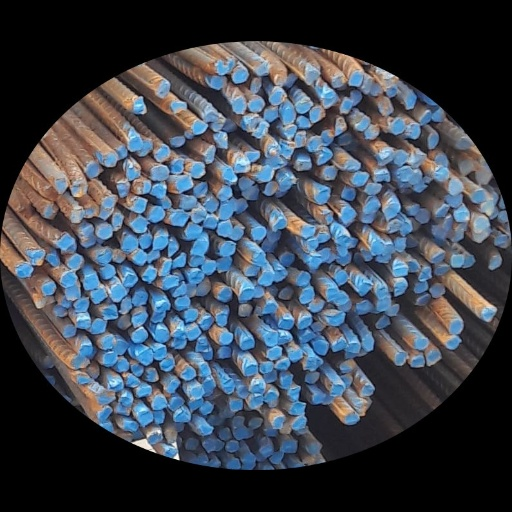dipstick: (276, 168, 297, 184), (280, 102, 295, 124), (85, 161, 103, 179), (109, 283, 126, 302), (191, 238, 208, 256), (216, 285, 233, 303), (70, 178, 86, 197), (409, 150, 425, 169), (304, 65, 319, 85), (90, 287, 107, 304), (101, 150, 117, 168), (154, 144, 170, 162), (130, 217, 148, 233), (137, 347, 153, 365), (132, 309, 148, 327), (132, 289, 148, 307), (202, 195, 218, 213), (315, 186, 331, 204), (454, 204, 470, 222), (28, 249, 46, 265), (217, 241, 236, 256), (426, 348, 441, 367), (14, 262, 33, 277), (325, 311, 345, 325), (60, 271, 77, 287), (149, 206, 165, 223), (75, 312, 91, 329), (101, 350, 117, 367), (137, 409, 153, 426), (175, 175, 191, 192), (241, 183, 258, 199), (137, 139, 152, 157), (150, 165, 168, 180), (170, 210, 188, 225), (184, 224, 202, 239), (216, 255, 231, 273), (231, 95, 246, 113), (378, 97, 393, 115), (448, 177, 463, 195), (458, 157, 473, 175), (132, 96, 146, 115), (157, 79, 170, 99), (86, 359, 99, 379), (177, 195, 197, 208), (99, 334, 115, 350), (131, 327, 147, 343), (216, 184, 232, 200), (242, 114, 258, 130), (265, 141, 281, 157), (377, 148, 393, 164), (473, 215, 489, 231), (392, 260, 408, 276), (41, 202, 57, 218), (189, 162, 206, 177), (57, 233, 74, 248), (97, 247, 112, 264), (101, 305, 118, 320), (153, 327, 170, 342), (187, 269, 204, 284), (268, 90, 285, 105), (294, 98, 311, 113), (116, 179, 130, 197), (132, 180, 150, 194), (217, 219, 231, 237), (173, 408, 191, 422), (475, 166, 489, 184), (96, 390, 115, 403), (113, 403, 132, 416), (322, 89, 335, 108), (191, 120, 207, 135), (66, 254, 82, 269), (122, 235, 137, 251), (99, 265, 115, 280), (83, 273, 98, 289), (73, 297, 89, 312), (113, 340, 129, 355), (159, 356, 174, 372), (193, 181, 208, 197), (218, 203, 233, 219), (195, 337, 211, 352), (249, 377, 264, 393), (258, 269, 273, 285), (248, 97, 264, 112), (213, 132, 228, 148), (317, 148, 332, 164), (384, 202, 399, 218), (340, 207, 356, 222), (295, 271, 311, 286), (356, 299, 372, 314), (312, 341, 328, 356), (448, 318, 463, 334), (170, 320, 184, 337), (215, 310, 229, 327), (233, 66, 247, 83), (310, 106, 324, 123), (370, 239, 384, 256), (393, 278, 407, 295), (70, 355, 88, 368), (119, 296, 132, 314), (334, 115, 347, 133), (79, 224, 94, 239), (41, 280, 56, 295), (153, 234, 168, 249), (199, 316, 214, 331), (278, 331, 293, 346), (364, 124, 379, 139), (431, 223, 446, 238), (376, 296, 391, 311), (54, 177, 68, 193), (126, 163, 140, 179), (101, 194, 117, 208), (92, 318, 106, 334), (108, 377, 124, 391), (162, 275, 178, 289), (191, 206, 205, 222), (221, 378, 235, 394), (264, 106, 278, 122), (257, 167, 273, 181), (352, 171, 368, 185), (363, 199, 379, 213), (300, 287, 314, 303), (264, 391, 278, 407), (197, 279, 210, 296), (281, 142, 294, 159), (457, 137, 474, 150), (305, 442, 322, 455), (204, 144, 215, 164), (167, 235, 178, 255), (265, 157, 287, 167), (405, 90, 416, 110), (132, 198, 146, 213), (97, 224, 112, 238), (131, 251, 146, 265), (65, 285, 80, 299), (125, 374, 140, 388), (144, 367, 159, 381), (142, 267, 156, 282), (186, 324, 200, 339), (172, 282, 186, 297), (152, 394, 166, 409), (169, 396, 184, 410), (181, 366, 195, 381), (248, 394, 262, 409), (240, 336, 255, 350), (223, 167, 237, 182), (211, 75, 226, 89), (263, 181, 277, 196), (331, 73, 345, 88), (434, 151, 448, 166), (394, 150, 408, 165), (446, 193, 461, 207), (280, 251, 294, 266), (266, 347, 281, 361), (375, 315, 390, 329), (344, 411, 359, 425), (483, 307, 497, 322), (170, 101, 186, 114), (211, 115, 224, 131), (139, 233, 152, 249), (150, 184, 166, 197), (356, 114, 369, 130), (392, 118, 405, 134), (365, 182, 381, 195), (287, 386, 300, 402), (289, 402, 305, 415), (281, 439, 297, 452), (412, 337, 428, 350), (350, 89, 362, 106), (123, 273, 137, 287), (184, 309, 198, 323), (175, 296, 189, 310), (172, 253, 186, 267), (239, 286, 253, 300), (202, 377, 216, 391), (251, 226, 265, 240), (434, 167, 448, 181), (358, 282, 372, 296), (414, 280, 428, 294), (340, 358, 354, 372), (128, 135, 141, 150), (202, 108, 217, 121), (170, 158, 183, 173), (52, 305, 67, 318), (97, 407, 112, 420), (153, 345, 166, 360), (118, 314, 131, 329), (150, 310, 165, 323), (202, 259, 215, 274), (188, 352, 203, 365), (278, 316, 293, 329), (264, 331, 277, 346), (296, 115, 311, 128), (307, 136, 320, 151), (341, 185, 354, 200), (349, 70, 362, 85), (398, 166, 411, 181), (336, 252, 351, 265), (387, 220, 402, 233), (406, 259, 421, 272), (307, 254, 320, 269), (334, 269, 347, 284), (430, 284, 445, 297), (278, 287, 293, 300), (274, 358, 289, 371), (287, 348, 302, 361), (291, 416, 306, 429), (445, 336, 460, 349), (188, 255, 204, 267), (197, 424, 213, 436), (294, 130, 306, 146), (237, 177, 253, 189), (235, 197, 247, 213), (345, 159, 361, 171), (394, 237, 406, 253), (154, 300, 171, 311), (340, 97, 351, 114), (374, 170, 391, 181), (482, 198, 493, 215), (299, 332, 316, 343), (170, 135, 184, 148), (84, 204, 98, 217), (45, 253, 59, 266), (203, 215, 217, 228), (219, 332, 233, 345), (166, 378, 179, 392), (190, 385, 204, 398), (217, 345, 231, 358), (233, 426, 247, 439), (255, 251, 268, 265), (215, 61, 228, 75), (323, 165, 336, 179), (272, 217, 286, 230), (471, 189, 485, 202), (416, 209, 430, 222), (305, 238, 318, 252), (274, 268, 287, 282), (493, 234, 507, 247), (309, 299, 323, 312), (297, 316, 311, 329), (331, 339, 345, 352), (361, 336, 374, 350), (280, 374, 293, 388), (330, 383, 344, 396), (393, 351, 406, 365), (70, 207, 82, 222), (136, 385, 151, 397), (171, 338, 186, 350), (188, 397, 203, 409), (321, 130, 333, 145), (375, 284, 387, 299), (258, 361, 273, 373), (305, 372, 320, 384), (122, 421, 138, 432), (159, 259, 170, 275), (162, 446, 178, 457), (244, 264, 260, 275), (250, 77, 261, 93), (296, 159, 312, 170), (408, 123, 419, 139), (432, 106, 443, 122), (240, 453, 256, 464), (472, 233, 489, 243), (200, 401, 213, 414), (185, 437, 198, 450), (244, 363, 257, 376), (238, 303, 251, 316), (274, 73, 287, 86), (418, 267, 431, 280), (325, 287, 338, 300), (259, 443, 272, 456), (112, 248, 124, 262), (63, 323, 75, 337), (131, 362, 143, 376), (199, 362, 211, 376), (148, 431, 162, 443), (203, 437, 215, 451), (234, 160, 248, 172), (256, 61, 268, 75), (336, 233, 350, 245), (346, 341, 360, 353), (360, 384, 374, 396), (409, 355, 423, 367), (117, 357, 128, 372), (247, 417, 262, 428), (415, 294, 430, 305), (303, 355, 314, 370), (360, 213, 376, 223), (99, 208, 112, 220), (165, 429, 177, 442), (230, 399, 242, 412), (218, 427, 231, 439), (225, 440, 238, 452), (246, 150, 259, 162), (338, 133, 350, 146), (385, 84, 397, 97), (435, 204, 448, 216), (451, 254, 463, 267), (272, 415, 284, 428), (78, 344, 92, 355), (161, 195, 172, 209), (232, 226, 243, 240), (186, 281, 195, 298), (428, 132, 437, 148), (432, 251, 444, 263), (434, 265, 450, 274), (387, 304, 399, 316), (153, 410, 164, 423), (237, 385, 248, 398), (263, 302, 276, 313), (284, 126, 295, 139), (301, 226, 314, 237), (322, 210, 333, 223), (371, 83, 382, 96), (419, 110, 430, 123), (410, 171, 421, 184), (443, 216, 454, 229), (463, 255, 474, 268), (113, 213, 123, 227), (403, 220, 412, 235), (488, 255, 497, 270), (320, 247, 329, 262), (172, 270, 184, 281), (360, 249, 372, 260), (119, 395, 132, 405), (384, 242, 394, 255), (450, 231, 463, 241), (117, 145, 126, 159), (363, 76, 370, 94), (311, 322, 325, 331), (233, 416, 244, 427), (253, 285, 263, 297), (407, 204, 419, 214), (375, 254, 390, 262), (316, 233, 329, 242), (311, 393, 324, 402), (499, 210, 507, 224), (336, 245, 347, 255), (454, 222, 466, 230), (350, 238, 357, 247)
